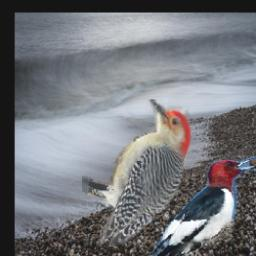Woodpecker: (83, 100, 192, 248), (149, 154, 256, 256)
